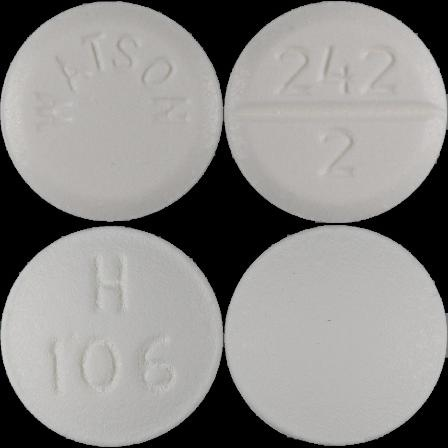54868-0061: (0, 0, 224, 224)
